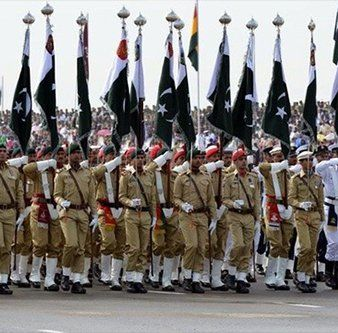uniform: (284, 153, 327, 282), (26, 144, 65, 282), (221, 152, 260, 289), (123, 149, 162, 282), (60, 140, 97, 278), (176, 152, 214, 281), (97, 145, 130, 281), (263, 148, 289, 291), (1, 149, 25, 283)
